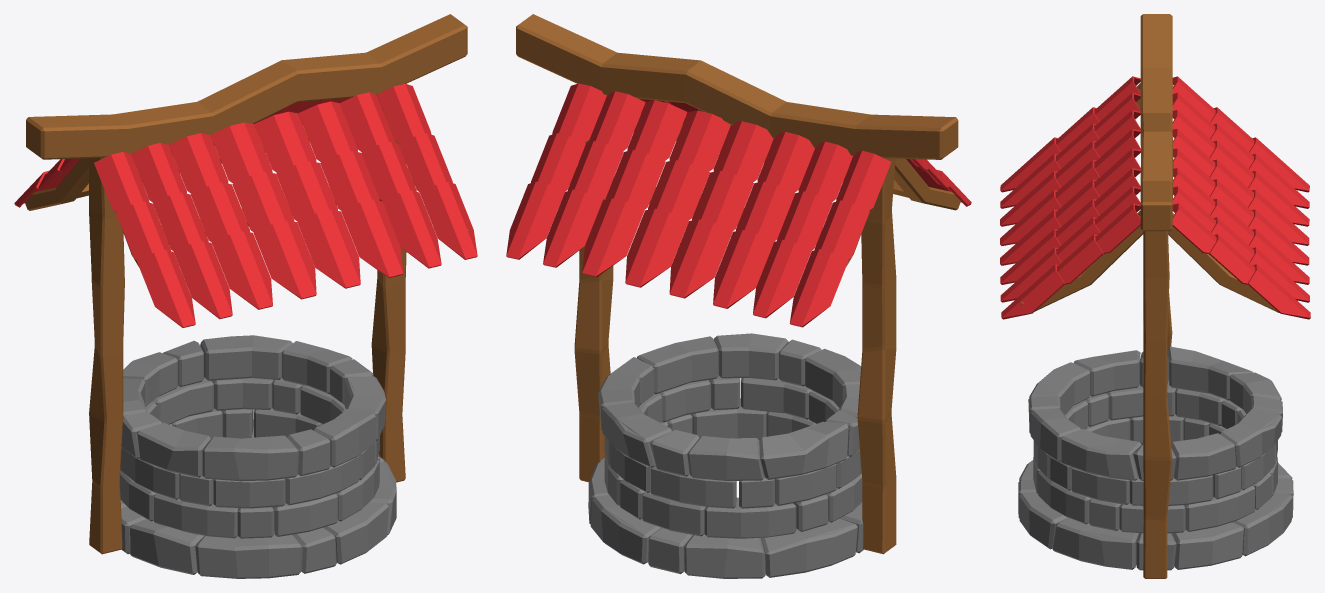
File: well.fbx
3 renders of one model, left to right at view 1: azimuth 30°, elevation 25°; view 2: azimuth 150°, elevation 25°; view 3: azimuth 270°, elevation 25°, orthographic. The views are drawn at different scales.
Visible parts, largest first — view 1: Plane.001, well3, roofrod, well2, well, rod.001, well1, rod, roof2, Plane; view 2: Plane, well3, roofrod, well2, well, rod.001, well1, rod, roof3, Plane.001; view 3: Plane.001, Plane, well3, well, well2, rod, well1, roofrod, roof1, roof4.
Part boxes in pixels (x1,y1,x2,y2): Plane.001: (94, 83, 477, 327); well3: (121, 335, 386, 481); roofrod: (26, 14, 467, 159); well2: (120, 377, 379, 508); well: (120, 419, 396, 578); rod.001: (89, 158, 124, 554); well1: (120, 407, 379, 538); rod: (371, 97, 406, 482); roof2: (25, 158, 88, 210); Plane: (14, 98, 350, 207); Plane: (506, 83, 891, 327); well3: (598, 333, 861, 480); roofrod: (516, 14, 958, 159); well2: (604, 375, 861, 508); well: (588, 440, 863, 578); rod.001: (857, 158, 896, 554); well1: (604, 398, 862, 538); rod: (574, 112, 613, 482); roof3: (894, 158, 960, 210); Plane.001: (639, 99, 971, 206); Plane.001: (1000, 76, 1140, 319); Plane: (1172, 76, 1310, 319); well3: (1028, 346, 1282, 480); well: (1018, 443, 1293, 570); well2: (1033, 379, 1277, 505); rod: (1143, 231, 1172, 578); well1: (1033, 414, 1277, 533); roofrod: (1140, 14, 1173, 231); roof1: (1168, 213, 1278, 312); roof4: (1021, 210, 1143, 311).
Bounding box in the file's own units: 618 × 616 × 427.
